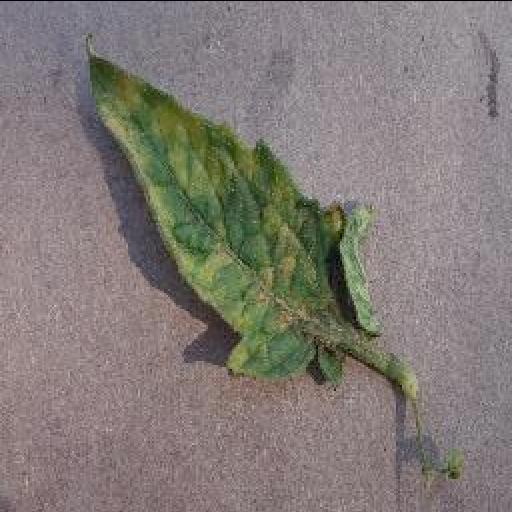disease_tomato: (78, 32, 382, 380)
